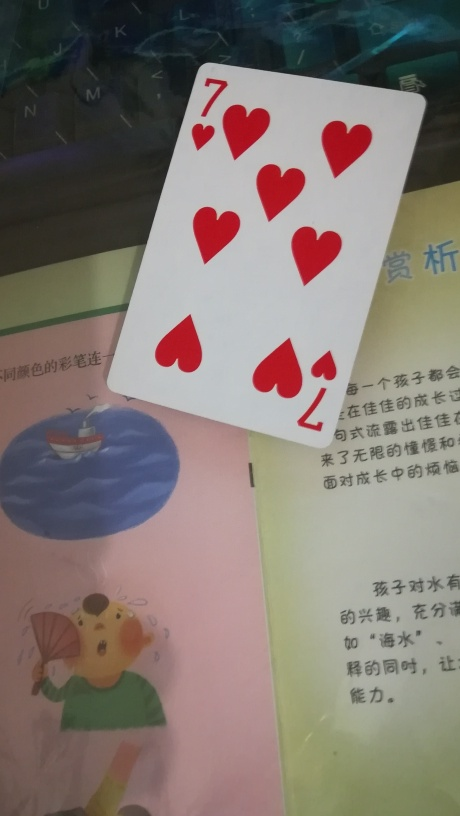hx 7: (103, 61, 425, 455)
